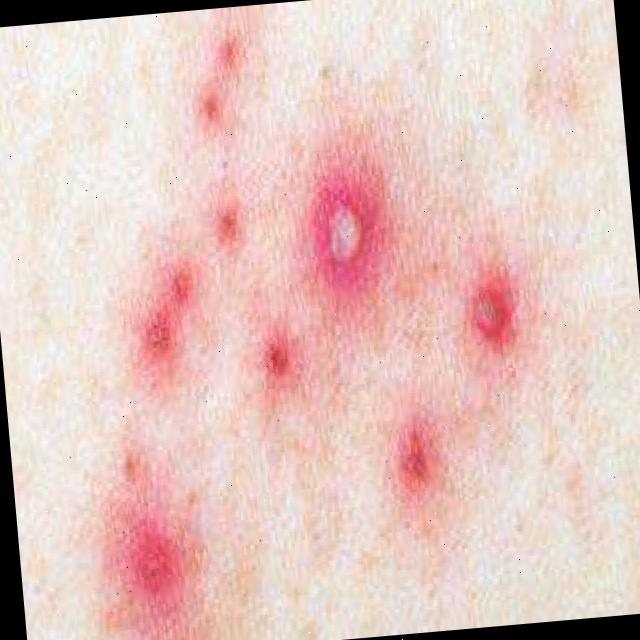kan emici bocekler: (288, 155, 402, 304), (458, 262, 523, 353), (383, 411, 438, 488), (249, 317, 305, 385)
